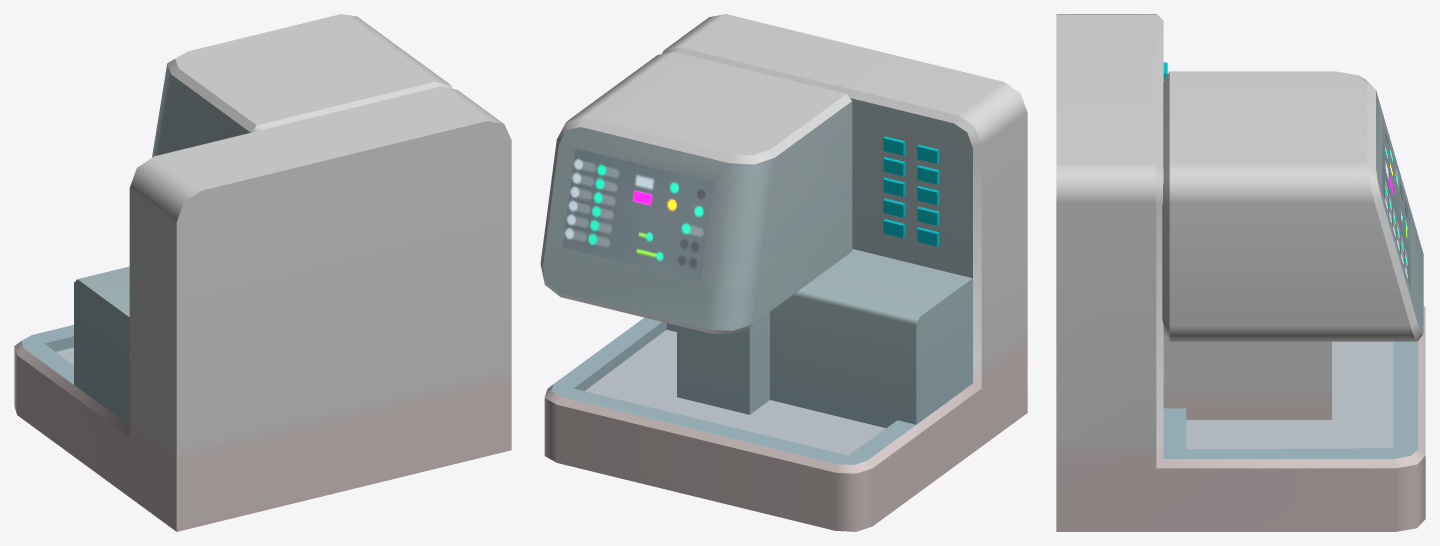
Rendered from Pfb_JLAB_Immunoanalyzer.fbx.
3 renders of one model, left to right at view 1: azimuth 30°, elevation 25°; view 2: azimuth 150°, elevation 25°; view 3: azimuth 270°, elevation 25°, orthographic. The views are drawn at different scales.
Visible parts, largest first — view 1: Color; view 2: Color, Monitors; view 3: Color, Monitors.
Part boxes in pixels (x1,y1,x2,y2): Color: [14, 14, 511, 531]; Color: [540, 14, 1027, 531]; Monitors: [562, 148, 713, 280]; Color: [1056, 14, 1425, 531]; Monitors: [1382, 119, 1410, 289].
Size of the model in its own units: 0.69 by 0.66 by 0.62.
Materials: 2 (2 with a texture image).
